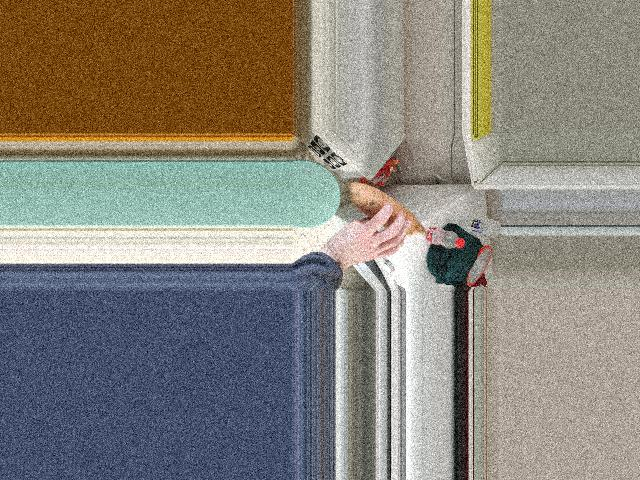sweet_potato: (360, 183, 422, 244)
